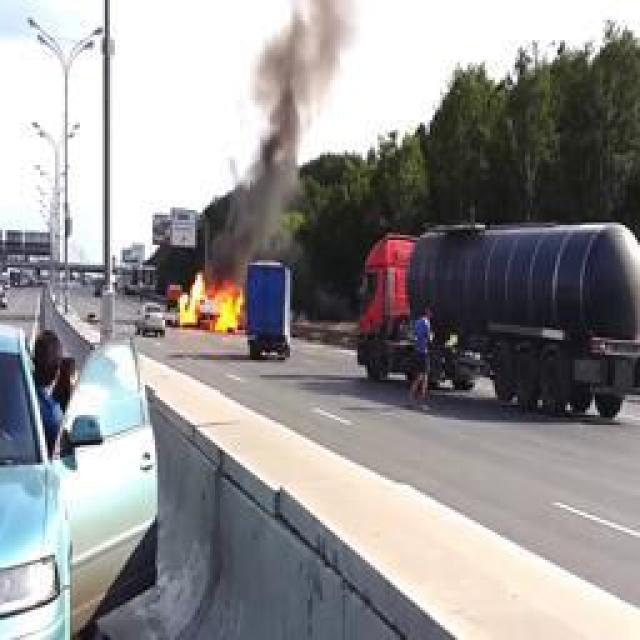Fire: (177, 271, 245, 331)
Smoke: (258, 9, 342, 127), (232, 132, 302, 256)
